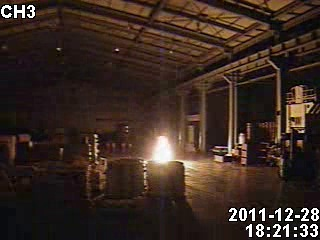fire: (147, 132, 175, 164)
